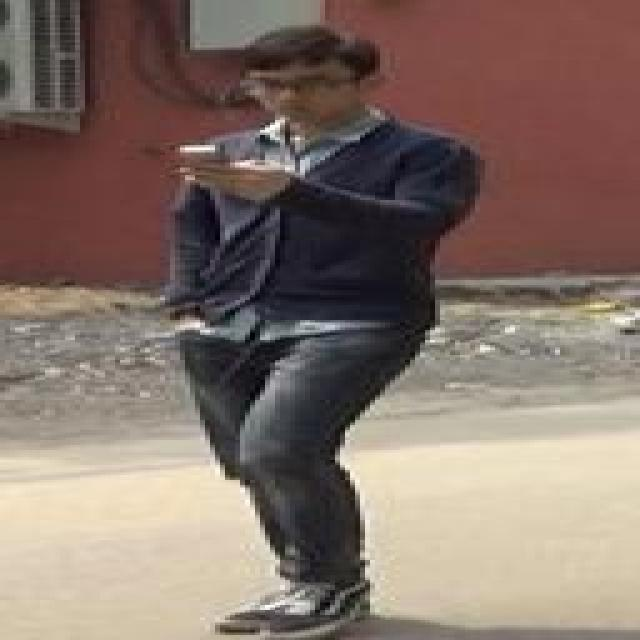adult: (142, 30, 496, 638)
